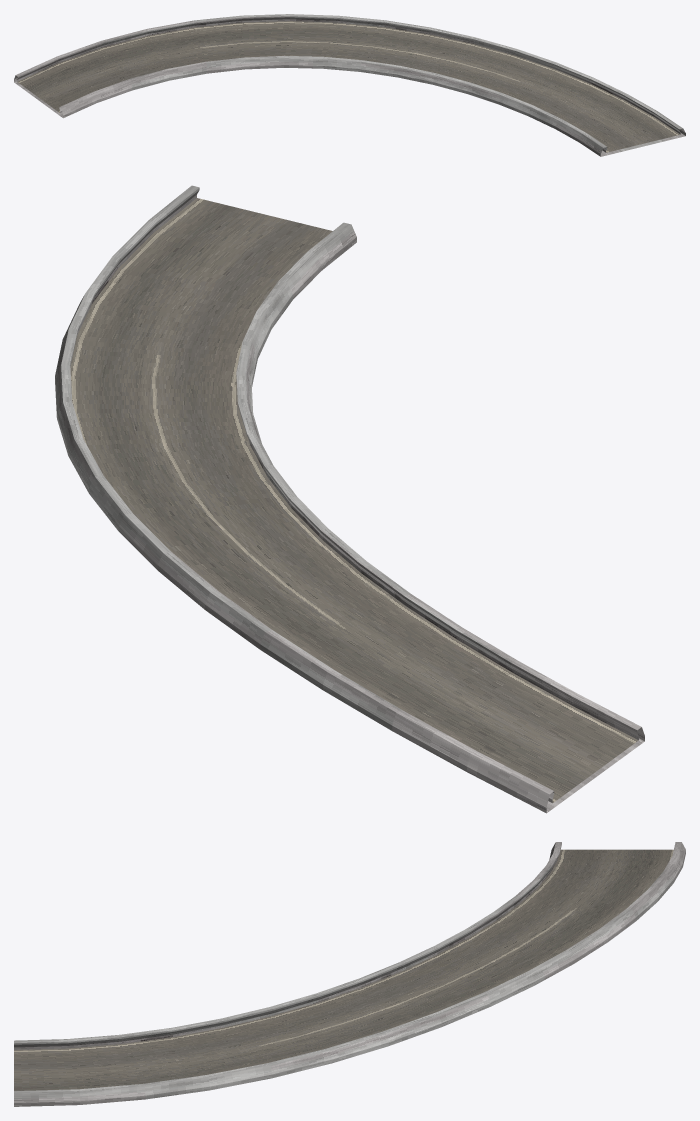
Rendered from turn-left5x5.glb.
The picture shows the model from 3 angles, top to bottom: view 1: azimuth 30°, elevation 25°; view 2: azimuth 150°, elevation 25°; view 3: azimuth 270°, elevation 25°; orthographic projection. The views are drawn at different scales.
Visible parts, largest first — view 1: road-Turn-Flat-BiSlopeDown-Down1-Left-Size5; view 2: road-Turn-Flat-BiSlopeDown-Down1-Left-Size5; view 3: road-Turn-Flat-BiSlopeDown-Down1-Left-Size5.
Boxes of the visible parts, x1,y1,x2,y2 form: road-Turn-Flat-BiSlopeDown-Down1-Left-Size5: (14, 14, 685, 156); road-Turn-Flat-BiSlopeDown-Down1-Left-Size5: (55, 185, 644, 813); road-Turn-Flat-BiSlopeDown-Down1-Left-Size5: (14, 842, 685, 1106).
Size of the model in its own units: 5 by 0.4802 by 5.
2 materials, 2 textured.
